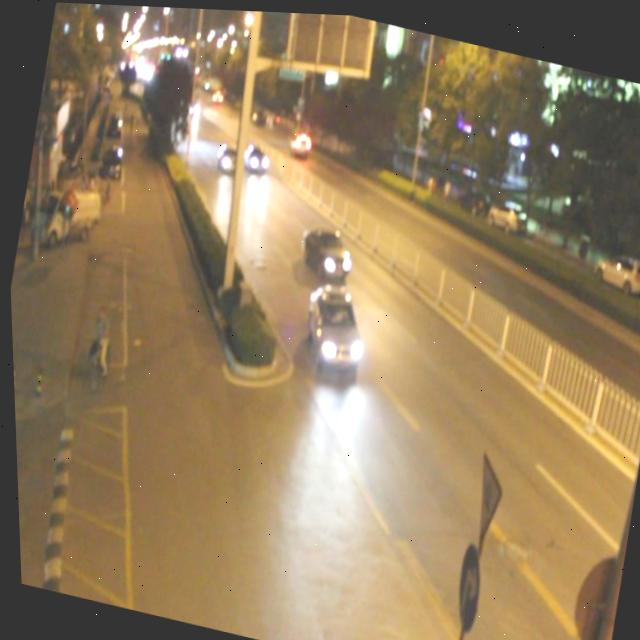car: (293, 276, 371, 376), (294, 218, 355, 281), (236, 137, 271, 174), (211, 139, 244, 175), (284, 122, 313, 156)
